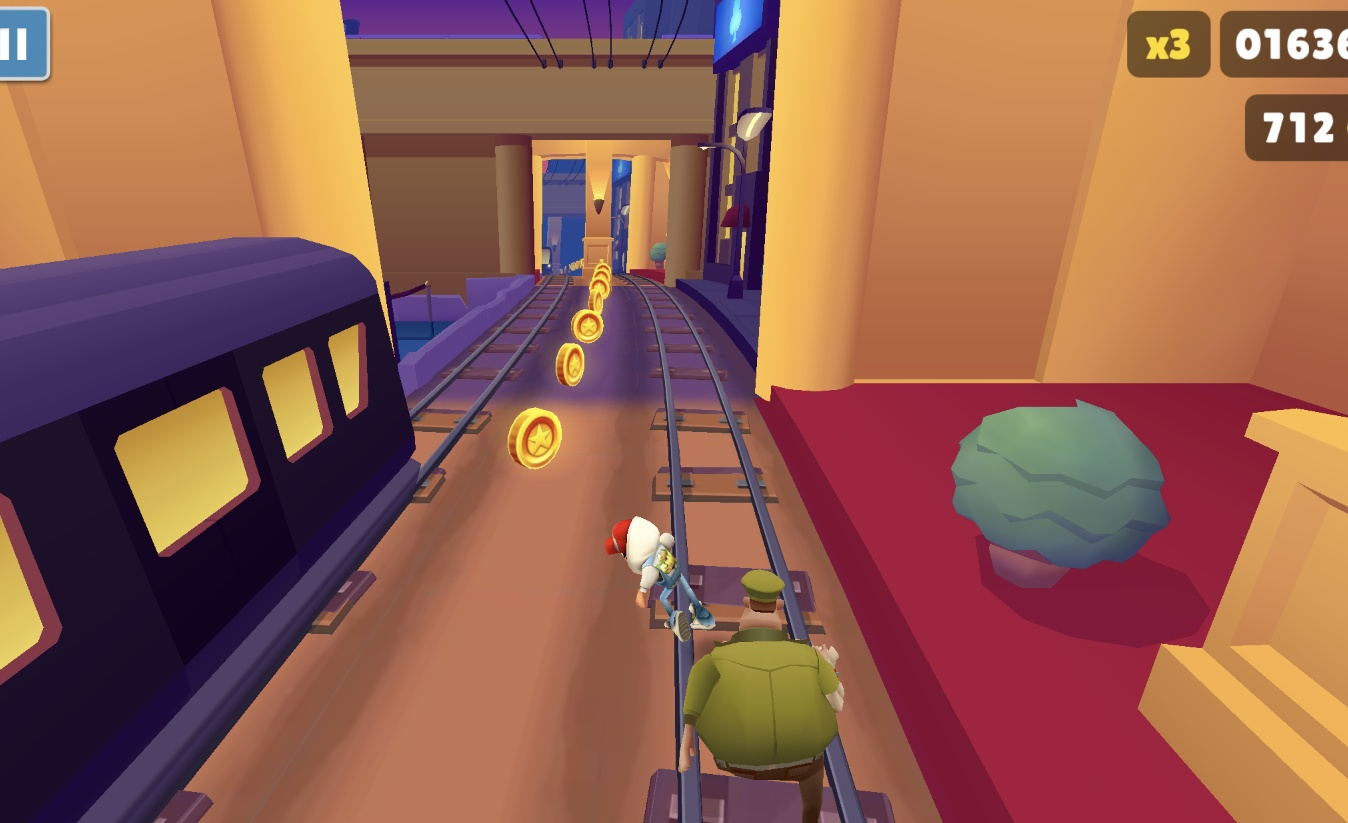pillar: (603, 127, 640, 283)
train: (0, 233, 428, 823)
